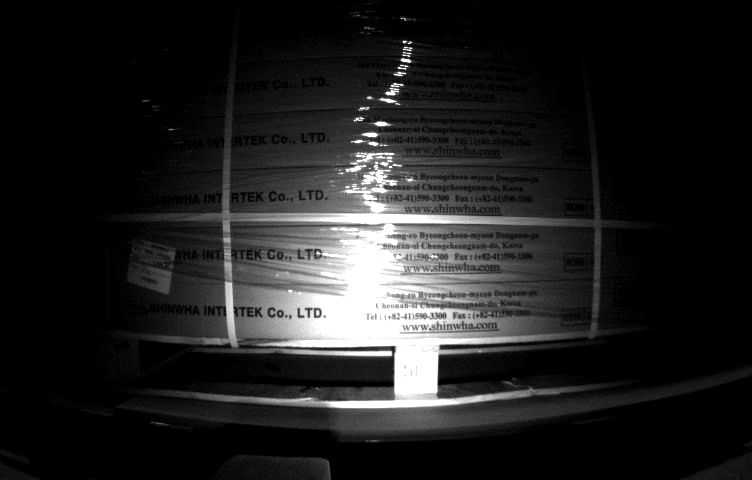True Barcode: (132, 236, 176, 292)
